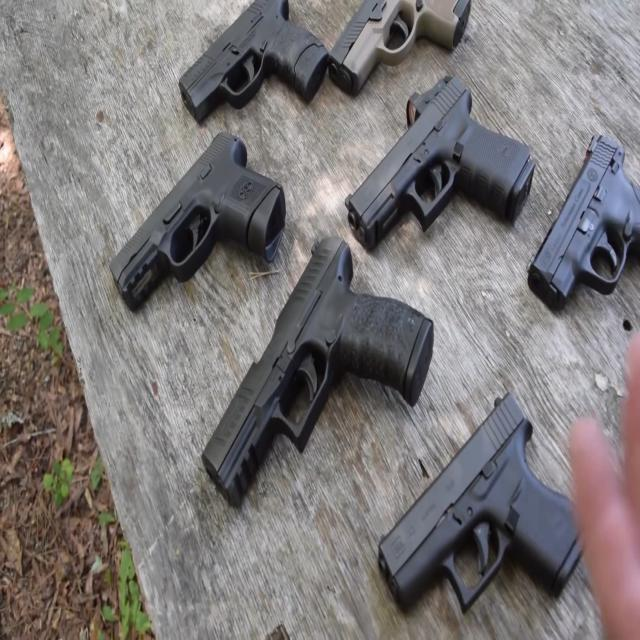handgun: (215, 222, 454, 550), (372, 395, 598, 620), (95, 103, 296, 352), (328, 90, 538, 249), (174, 0, 331, 154), (521, 116, 639, 318), (332, 0, 478, 92)
